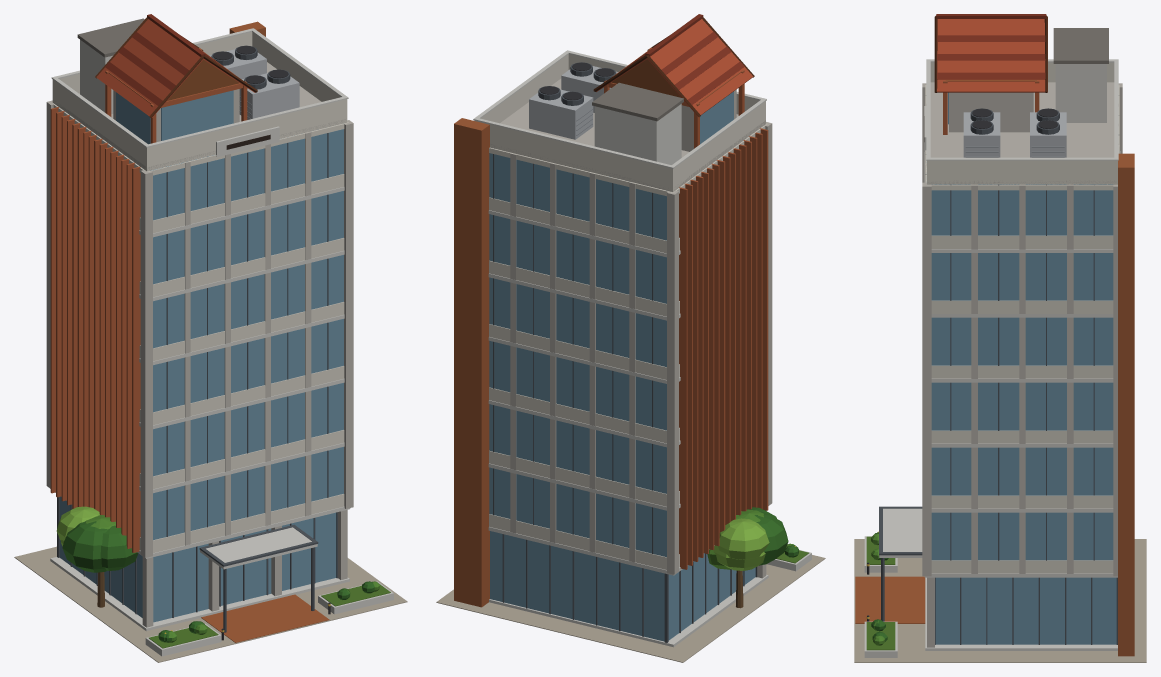
File: shop_3.glb
3 renders of one model, left to right at view 1: azimuth 30°, elevation 25°; view 2: azimuth 150°, elevation 25°; view 3: azimuth 270°, elevation 25°, orthographic. The views are drawn at different scales.
Parts seen in each view (by area): view 1: body; view 2: body; view 3: body.
Boxes of the visible parts, bbox=[...] form: body: bbox=[14, 14, 407, 662]; body: bbox=[436, 14, 825, 662]; body: bbox=[854, 14, 1146, 662].
Bounding box in the file's own units: 17.42 × 34.06 × 15.9.
